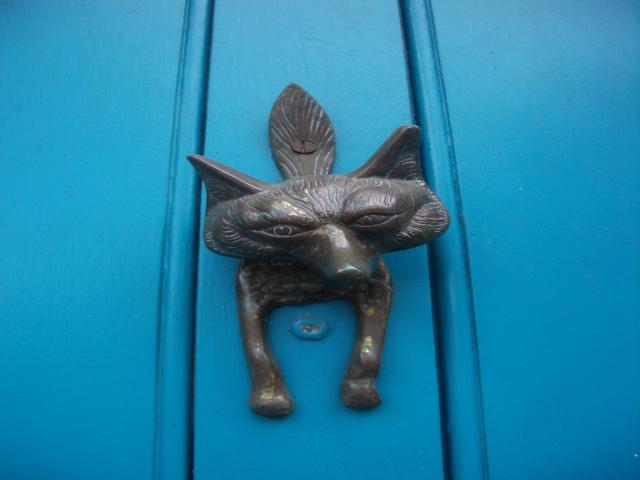Door-handle: (189, 83, 451, 418)
